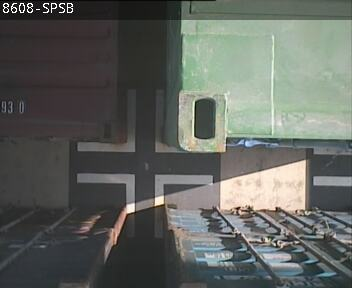groundmarker_1: (77, 172, 212, 236), (74, 90, 189, 151)
